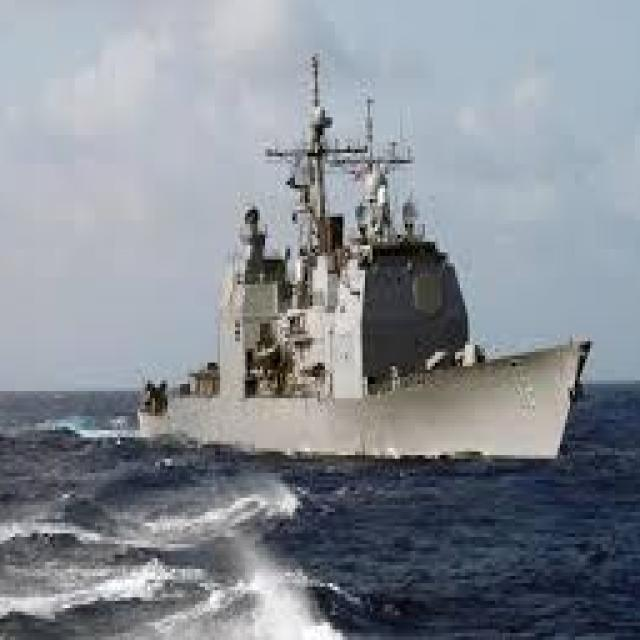navalvessels: (132, 33, 591, 460)
